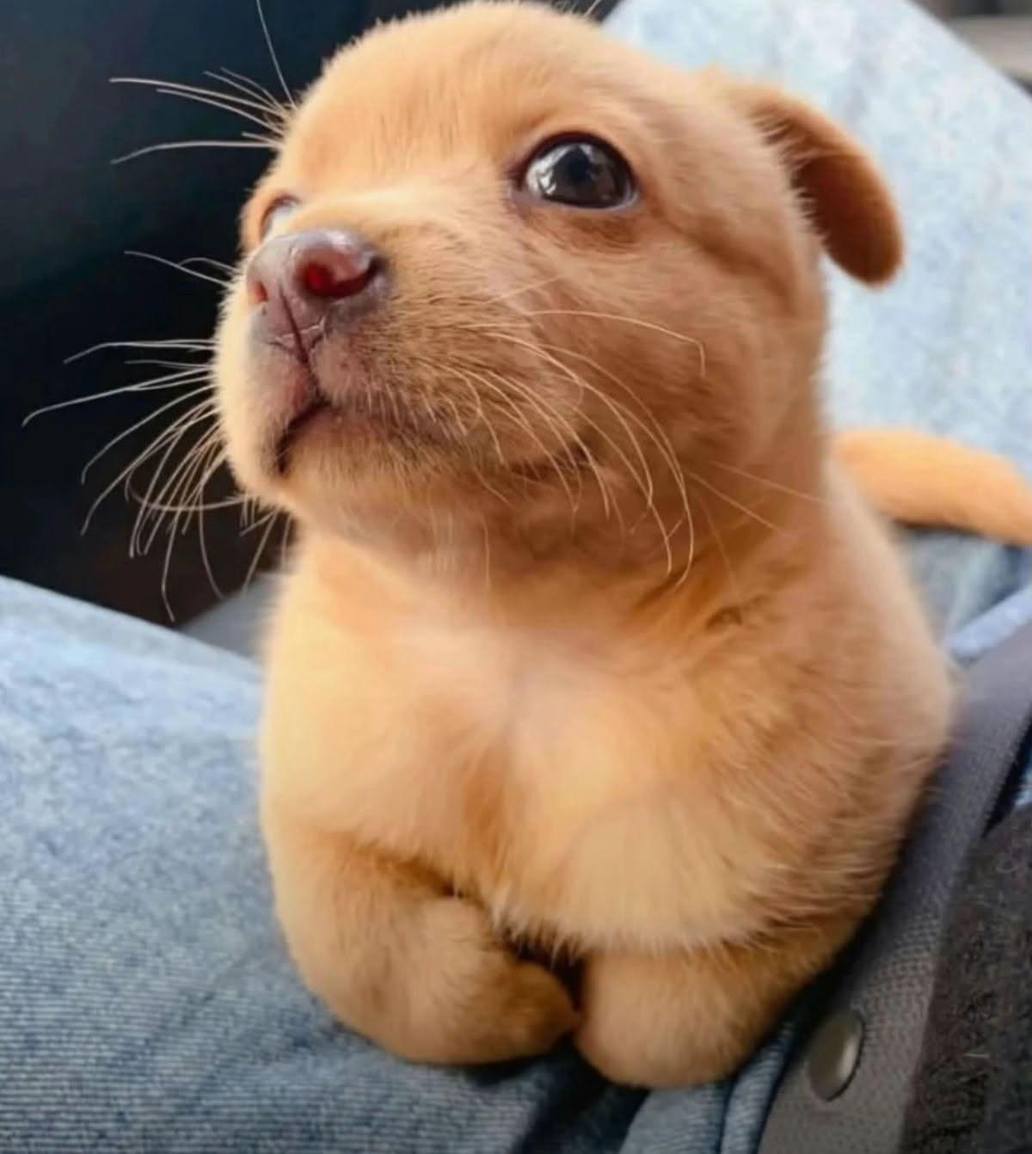puppy-dog: (207, 0, 1032, 1096)
